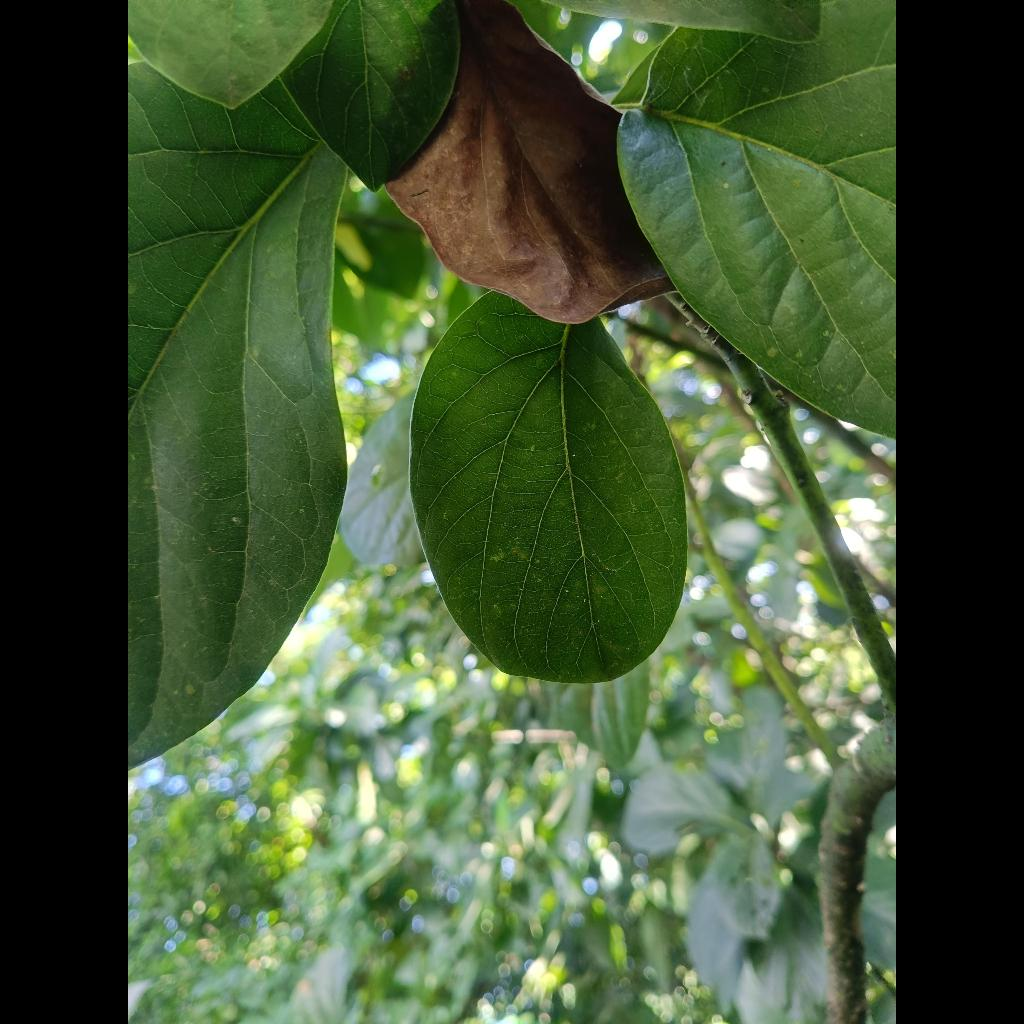Healthy: (410, 294, 686, 684)
